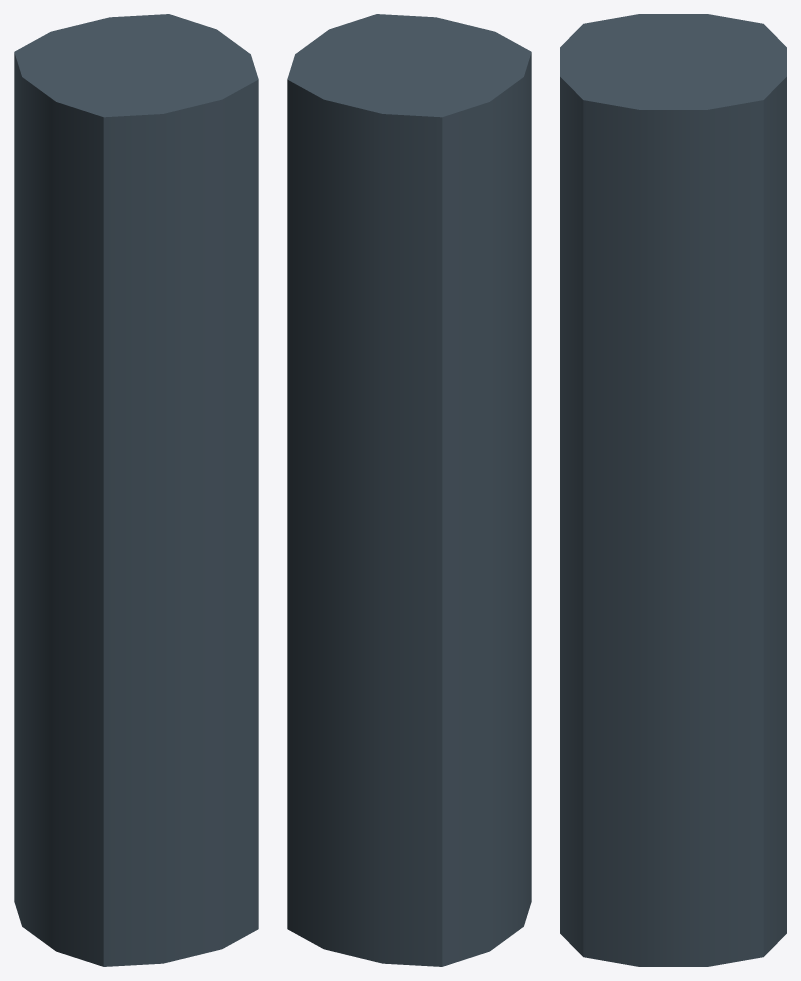
Rendered from TableLeg5.fbx.
The picture shows the model from 3 angles, left to right: view 1: azimuth 30°, elevation 25°; view 2: azimuth 150°, elevation 25°; view 3: azimuth 270°, elevation 25°; orthographic projection.
Parts seen in each view (by area): view 1: TableLeg5; view 2: TableLeg5; view 3: TableLeg5.
Part boxes in pixels (bbox=[...]): TableLeg5: bbox=[14, 14, 258, 966]; TableLeg5: bbox=[287, 14, 531, 966]; TableLeg5: bbox=[560, 14, 786, 966].
Bounding box in the file's own units: 0.1911 × 0.7967 × 0.1911.
